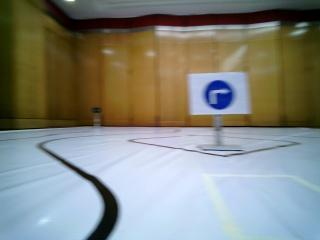right: (194, 76, 243, 114)
